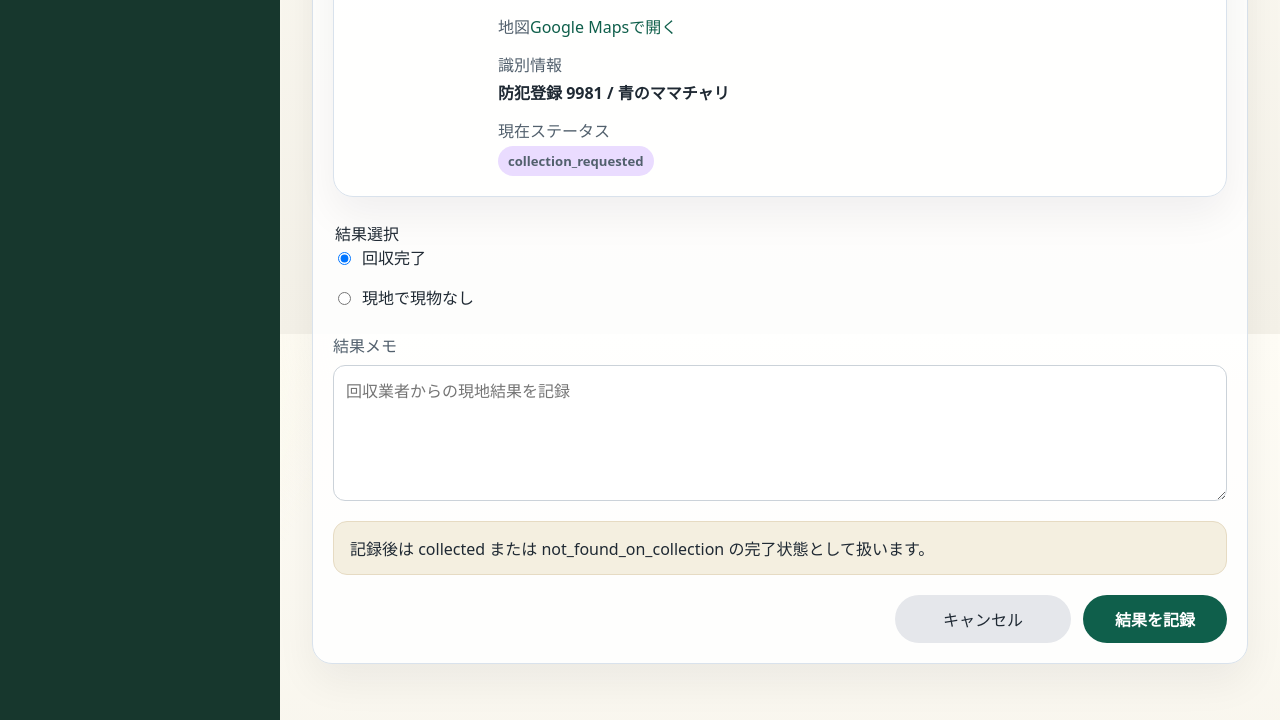
Scenario: Admin Dashboard pages › records a collected result from the collection result page
The image size is (1280, 720).
(page scrolled)
Type "回収業者が現地で回収完了" into the text box labelled "結果メモ".
click(780, 433); type("回収業者が現地で回収完了")  # box [333,365,1227,501]
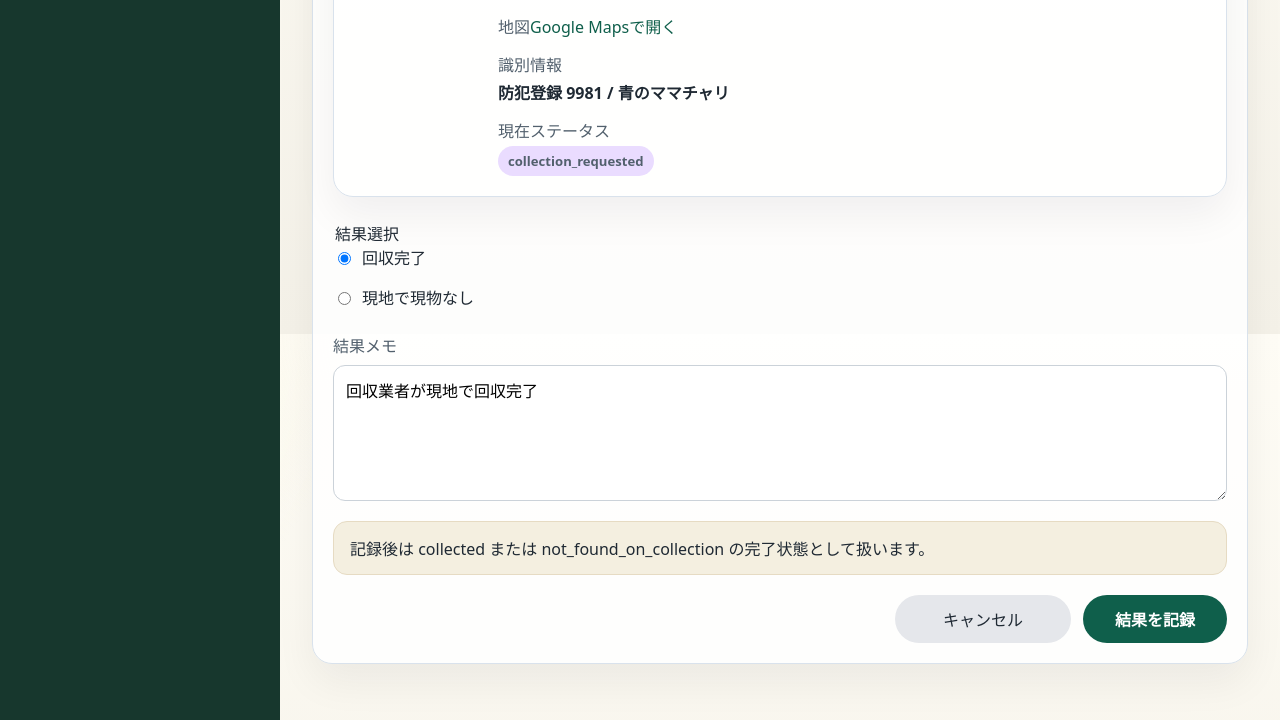
Click the button "結果を記録".
click(1155, 619)  # box [1083,595,1227,643]
(page scrolled)
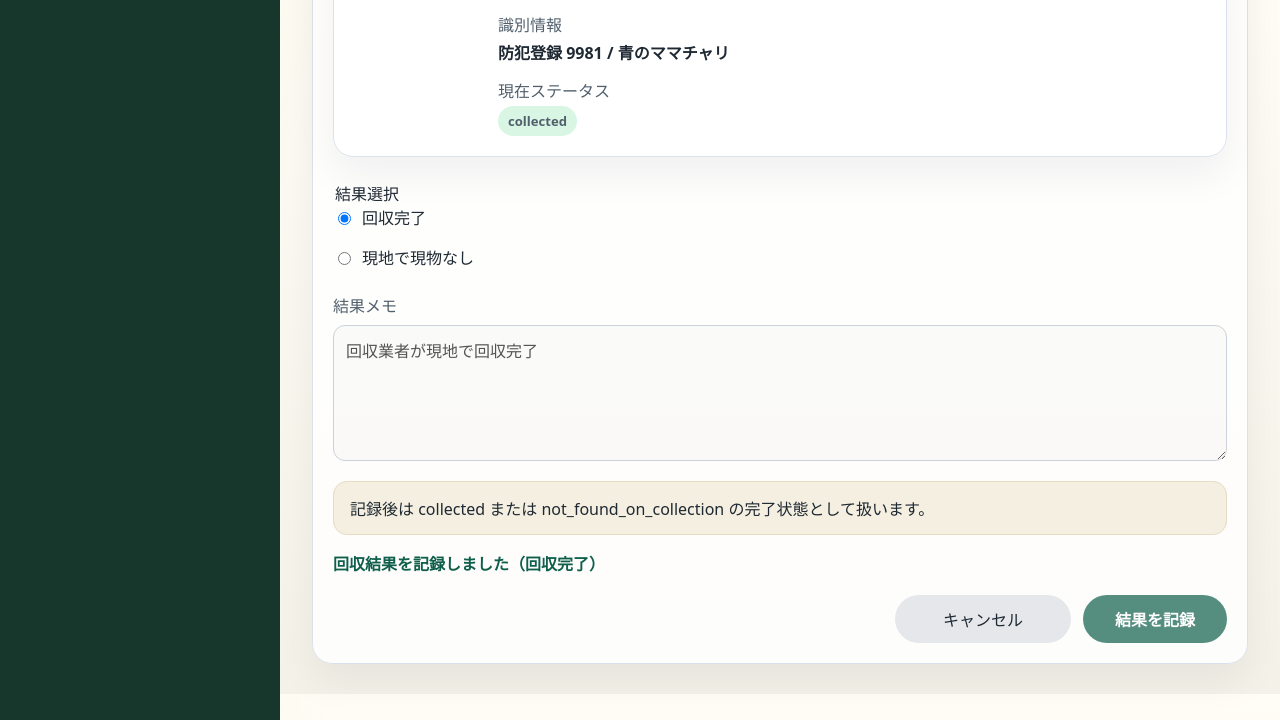
Result: the text "回収結果を記録しました（回収完了）" is shown at [333,553,605,575]
Result: the text "collected" is shown at [498,106,577,136]
Result: the text box labelled "結果メモ" is disabled at [333,325,1227,461]
